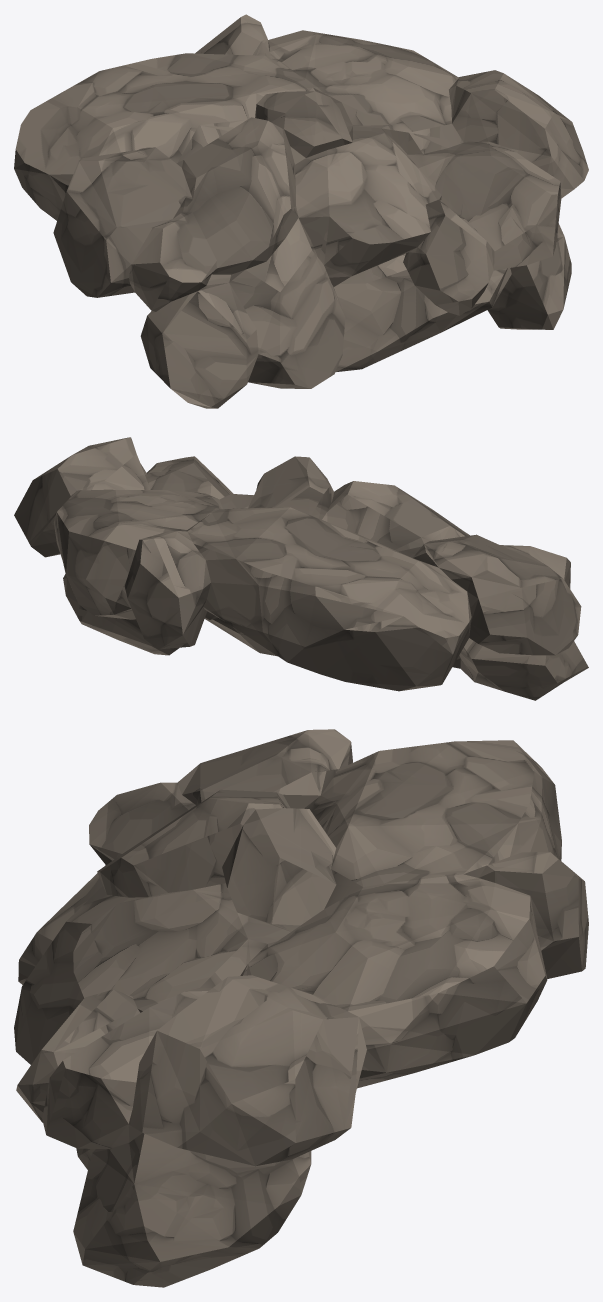
Rendered from source.gltf.
3 renders of one model, top to bottom at view 1: azimuth 30°, elevation 25°; view 2: azimuth 150°, elevation 25°; view 3: azimuth 270°, elevation 25°, orthographic. The views are drawn at different scales.
Visible parts, largest first — view 1: SM_Rock_Pile_Curved_01; view 2: SM_Rock_Pile_Curved_01; view 3: SM_Rock_Pile_Curved_01.
Part boxes in pixels (x1=…): SM_Rock_Pile_Curved_01: x1=14, y1=14, x2=588, y2=408; SM_Rock_Pile_Curved_01: x1=14, y1=437, x2=588, y2=700; SM_Rock_Pile_Curved_01: x1=14, y1=729, x2=588, y2=1287.
Size of the model in its own units: 5.34 by 2.6 by 3.82.
1 material, 1 textured.
